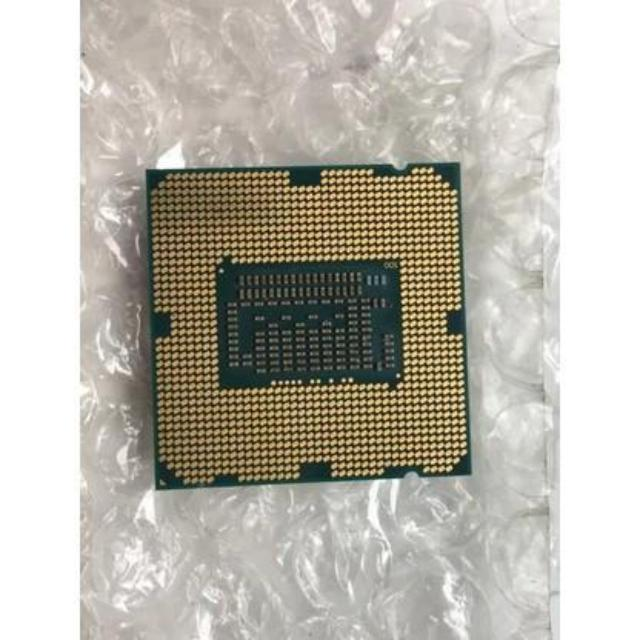CPU: (148, 170, 470, 476)
